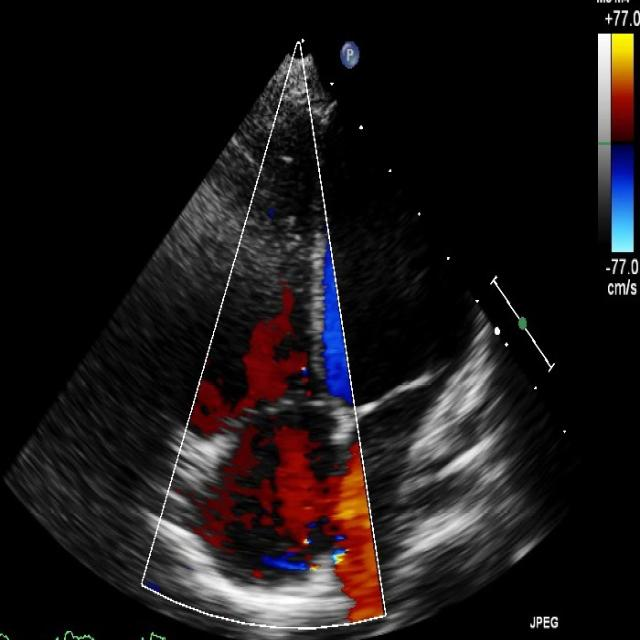ASDType2: (272, 400, 386, 624)
